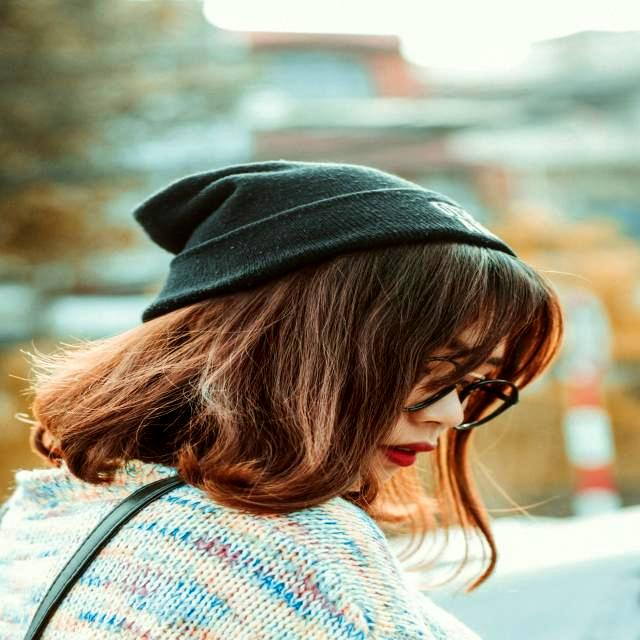no_hard_hat: (134, 161, 516, 322)
person: (3, 162, 562, 640)
